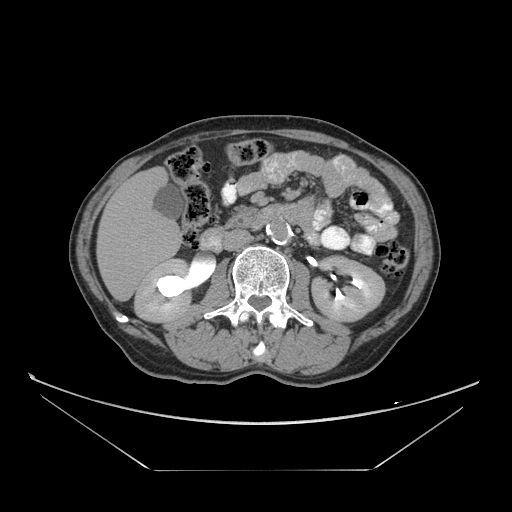left_kidney: (132, 253, 216, 331)
right_kidney: (307, 256, 386, 320)
